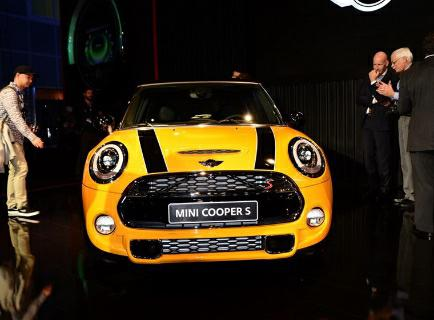MINI: (77, 85, 342, 286)
